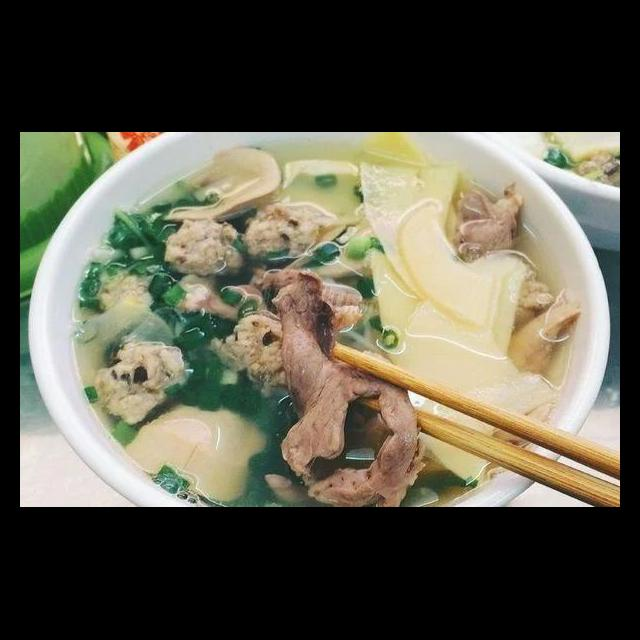vien moc: (86, 337, 193, 428), (241, 198, 344, 264), (209, 312, 297, 388), (158, 214, 248, 280)
